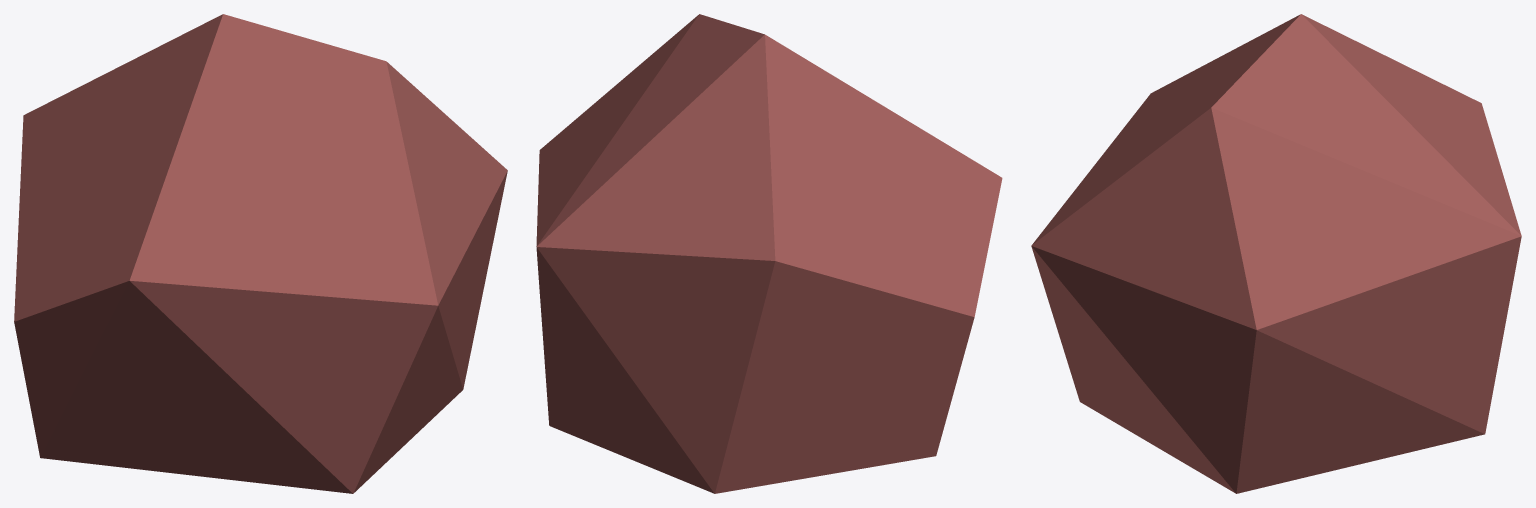
Rendered from FireRock.fbx.
3 views of the same model, side by side, from view 1: azimuth 30°, elevation 25°; view 2: azimuth 150°, elevation 25°; view 3: azimuth 270°, elevation 25° (orthographic). The views are drawn at different scales.
Visible parts, largest first — view 1: Rock; view 2: Rock; view 3: Rock.
Boxes of the visible parts, bbox=[...] form: Rock: bbox=[14, 14, 507, 493]; Rock: bbox=[536, 14, 1002, 493]; Rock: bbox=[1031, 14, 1521, 493].
Bounding box in the file's own units: 210 × 169 × 195.
